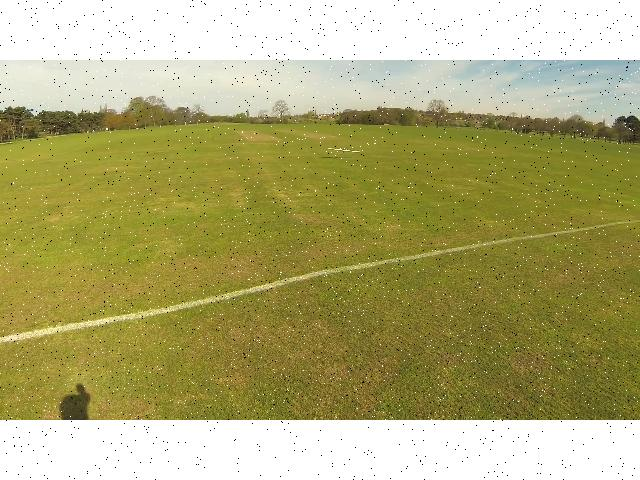Anti-Drone: (323, 140, 371, 160)
